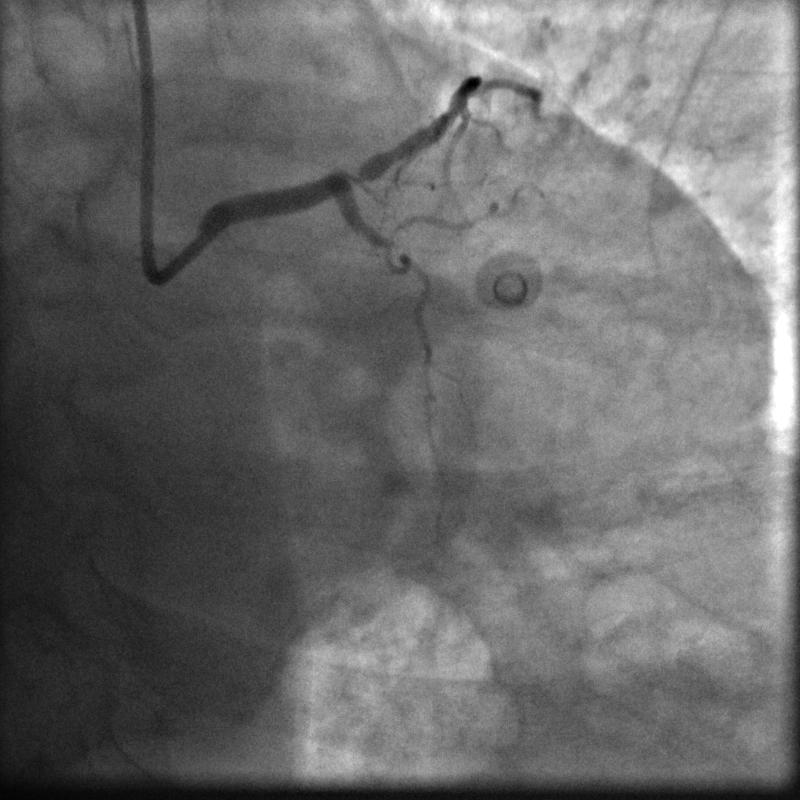Stenosis: (339, 156, 377, 188)
